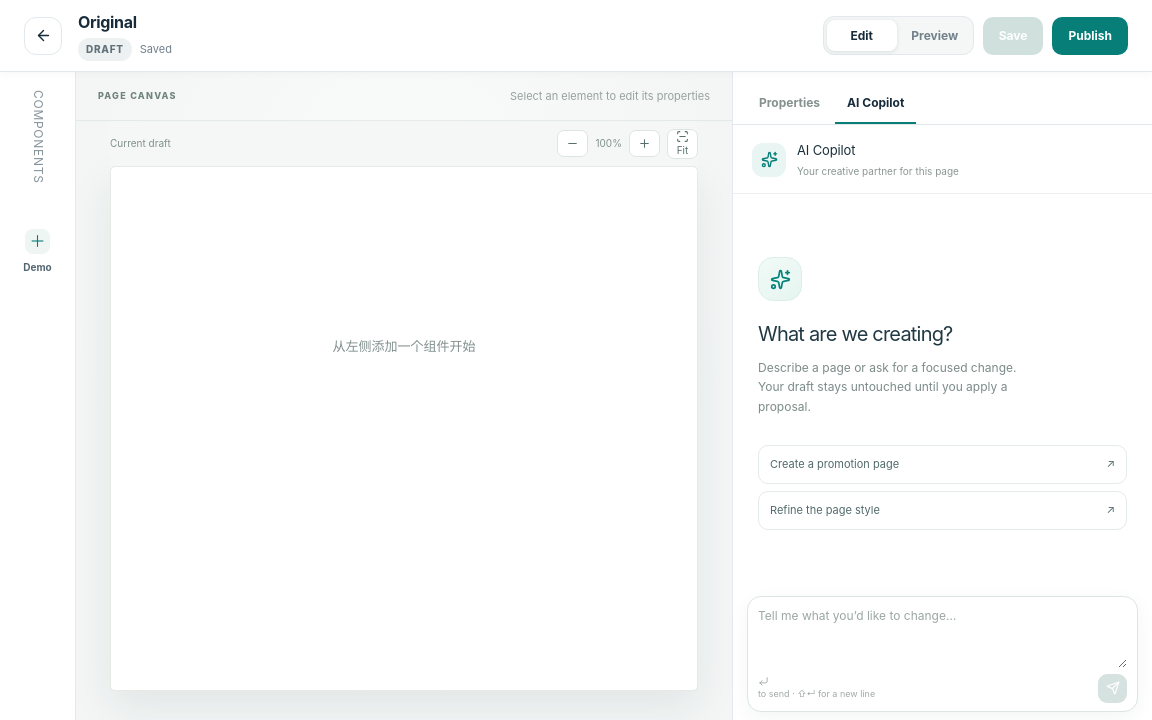
Test case: EditorPage › keeps later edits dirty when an earlier save completes
The image size is (1152, 720).
Replace the text in the field named "Page title" with "First edit" at (238, 22), box [78,10,398,34]
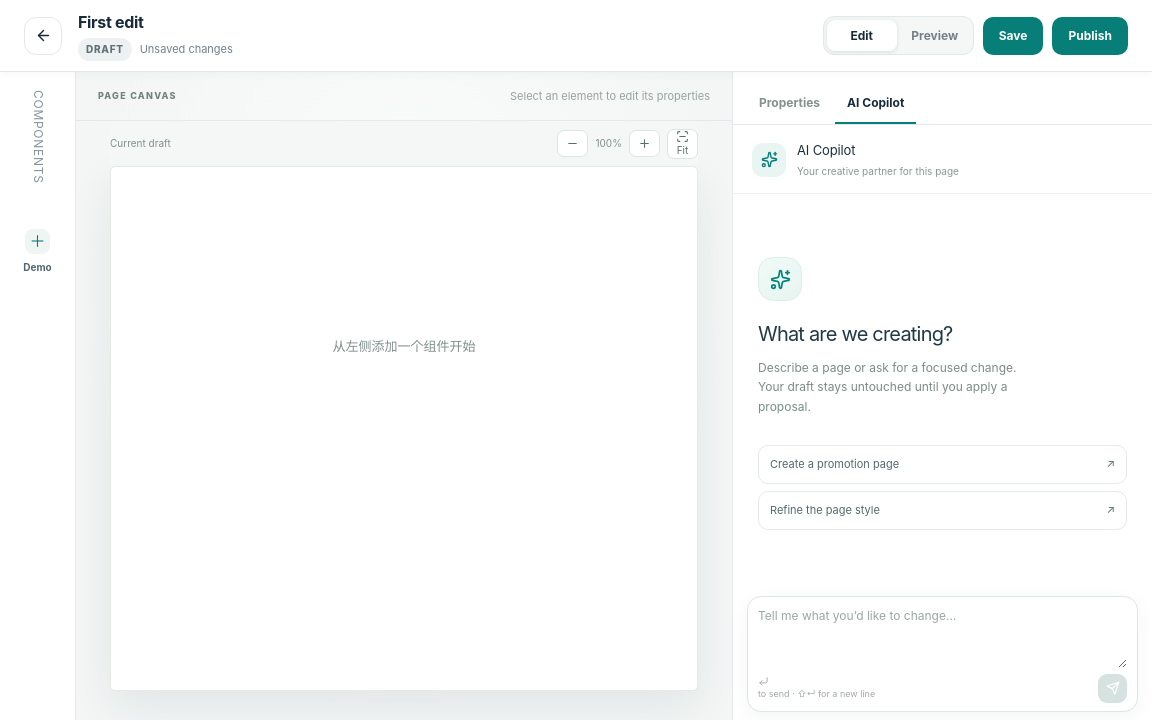
Click the button "Save" at (1013, 36), box [983,16,1044,54]
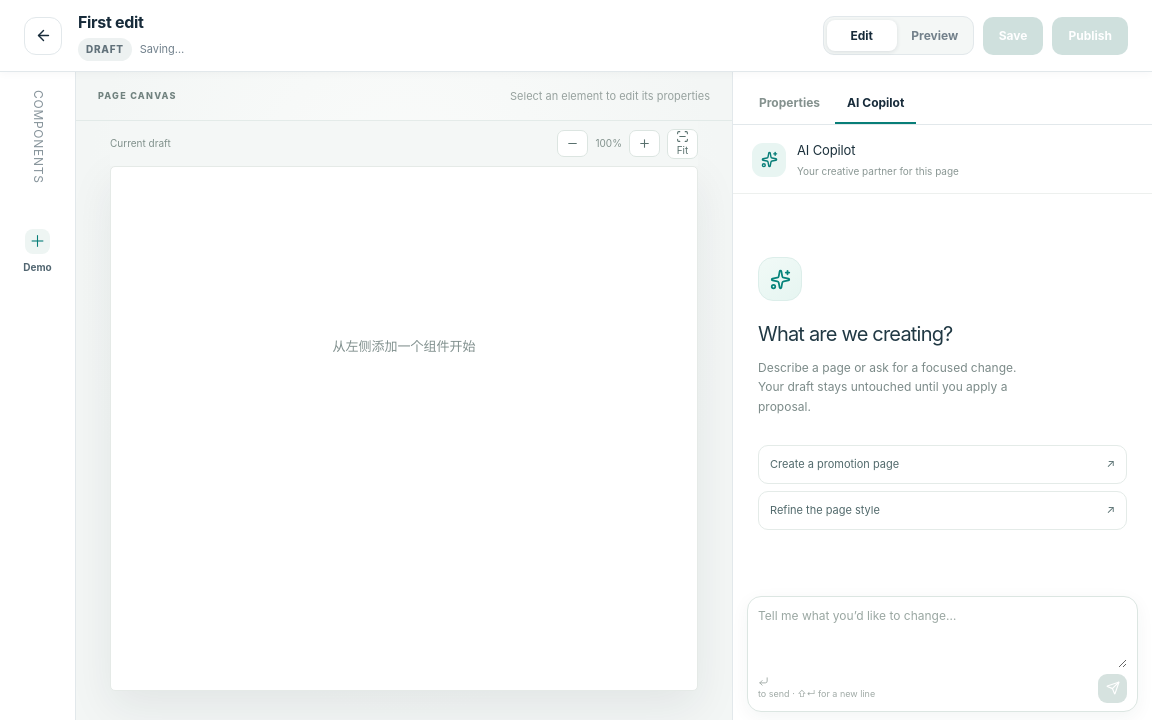
expect the text "Saving…" is shown: met, box [140,41,184,58]
Replace the text in the field named "Page title" with "Second edit" at (238, 22), box [78,10,398,34]
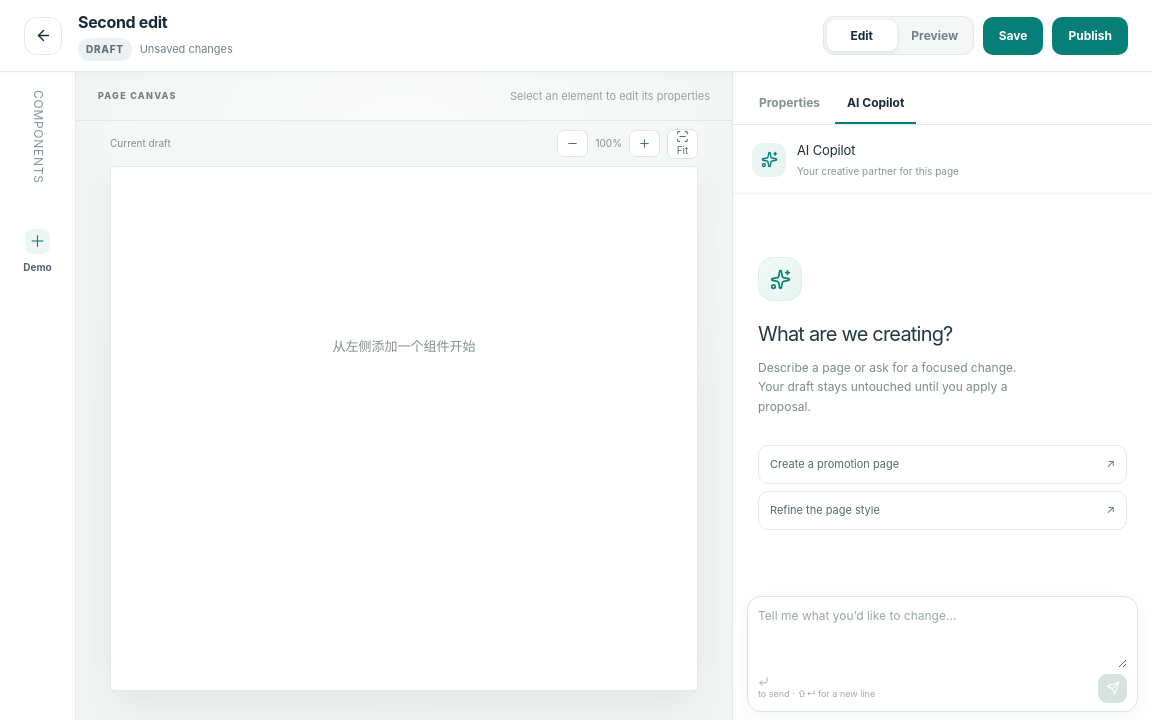
expect the text "Unsaved changes" is shown: met, box [140,41,233,58]
